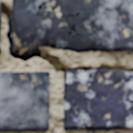brick: (13, 0, 132, 51), (64, 71, 132, 129), (0, 72, 48, 131)
crack: (0, 0, 132, 73), (26, 71, 37, 107)
